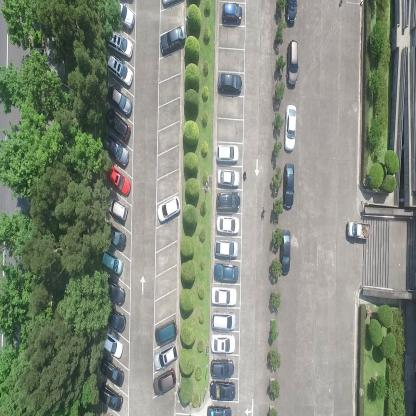car: (105, 160, 132, 197), (104, 107, 131, 143), (106, 82, 133, 118), (106, 53, 133, 88), (159, 24, 186, 57), (104, 134, 130, 168), (153, 339, 179, 372), (107, 28, 133, 60), (156, 192, 181, 225), (98, 356, 124, 387), (98, 381, 123, 411), (153, 367, 177, 398), (283, 103, 297, 154), (104, 221, 127, 252), (154, 316, 177, 346), (101, 330, 124, 360), (99, 250, 124, 277), (216, 72, 243, 96), (104, 276, 126, 305), (279, 227, 292, 275), (282, 162, 295, 210), (286, 38, 298, 89), (108, 194, 128, 224), (213, 260, 239, 283), (210, 310, 237, 332), (209, 380, 236, 402), (210, 357, 235, 380), (210, 286, 238, 306), (346, 218, 370, 241), (216, 190, 241, 212), (214, 238, 239, 259), (105, 307, 126, 332), (116, 1, 134, 30), (211, 334, 236, 354), (220, 3, 242, 25), (217, 167, 240, 188), (215, 143, 239, 163), (216, 214, 240, 233), (284, 0, 298, 26), (205, 403, 232, 415)
